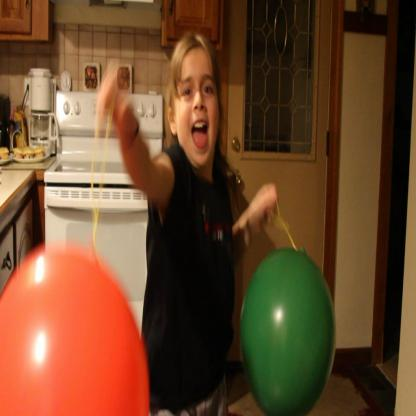Ball: (0, 244, 149, 416), (240, 250, 338, 415)
